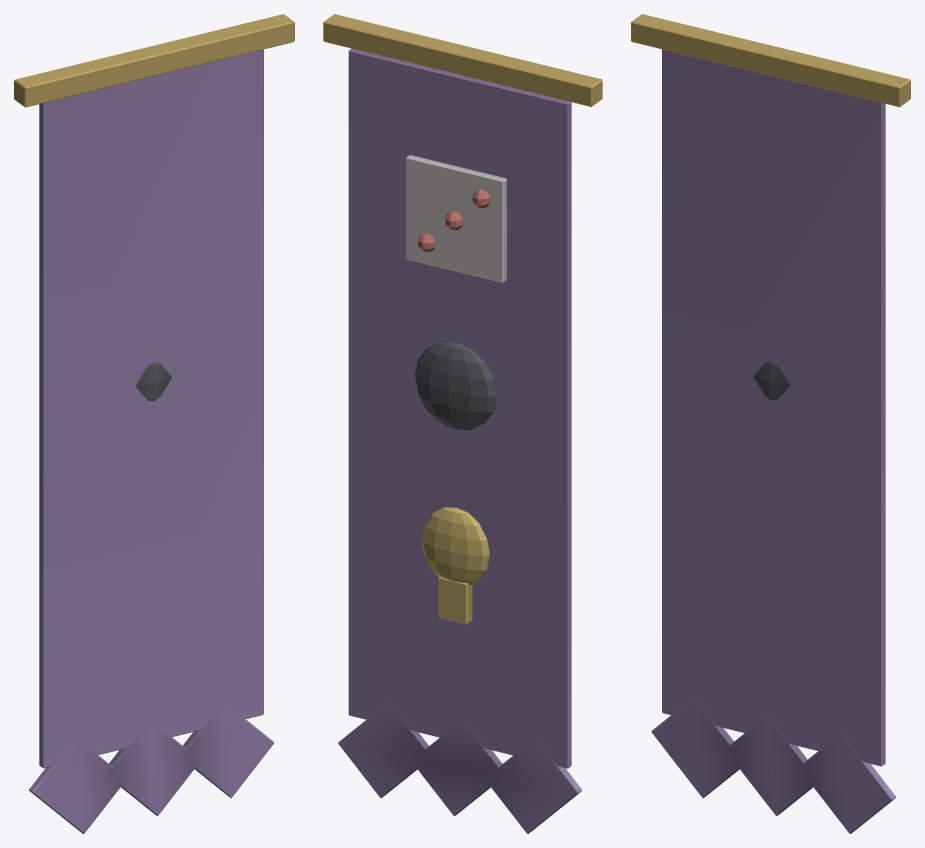
Rendered from games_banner.glb.
The picture shows the model from 3 angles, left to right: view 1: azimuth 30°, elevation 25°; view 2: azimuth 150°, elevation 25°; view 3: azimuth 330°, elevation 25°; orthographic projection.
Size of the model in its own units: 1.1 by 2.98 by 0.141.
